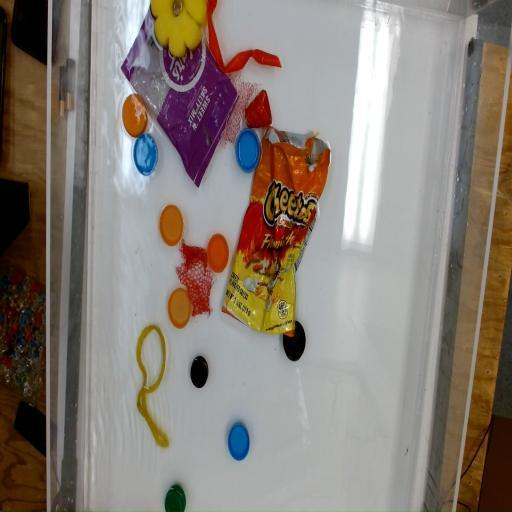Bottle Cap: (132, 134, 160, 178), (120, 94, 148, 135), (236, 127, 260, 171), (282, 320, 306, 362), (160, 206, 184, 247), (207, 234, 229, 276), (169, 289, 192, 329), (226, 421, 250, 459), (190, 354, 210, 390), (166, 483, 186, 512)
Cone Cap: (244, 92, 274, 128)
Netting: (176, 232, 214, 319), (218, 77, 254, 148)
Plastic Bag: (221, 128, 331, 340), (122, 2, 240, 191)
Plastic Strand: (204, 0, 284, 74), (136, 324, 173, 458)
Sponge: (150, 0, 204, 59)
